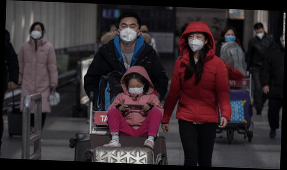with_mask: (118, 21, 140, 43), (187, 32, 206, 52), (126, 81, 145, 95), (30, 26, 44, 40), (223, 32, 236, 41), (255, 29, 265, 40)
